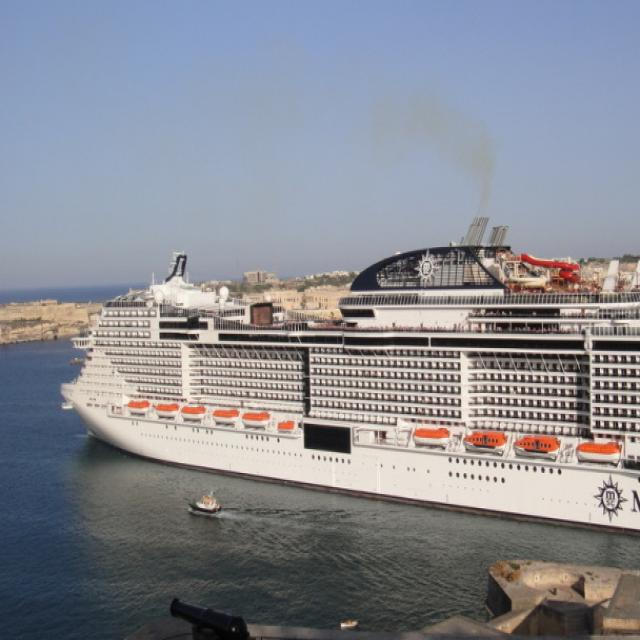cruises: (57, 214, 640, 557)
